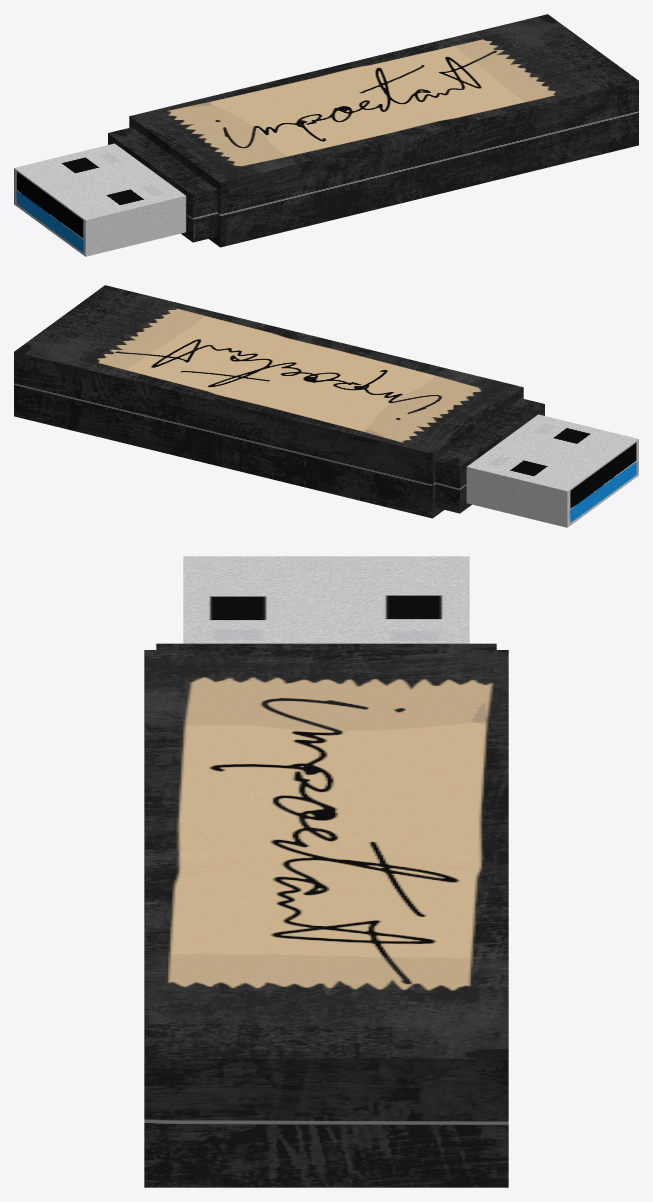
The model's file is usb_stick.glb.
3 views of the same model, one above another, from view 1: azimuth 30°, elevation 25°; view 2: azimuth 150°, elevation 25°; view 3: azimuth 270°, elevation 25° (orthographic). The views are drawn at different scales.
Visible parts, largest first — view 1: usb stick; view 2: usb stick; view 3: usb stick.
Boxes of the visible parts, box(x1,y1,x2,y2) form: usb stick: box(14, 14, 638, 256); usb stick: box(14, 285, 638, 527); usb stick: box(144, 556, 508, 1187).
Bounding box in the file's own units: 6.89 × 0.7822 × 2.
Materials: 1 (1 with a texture image).
